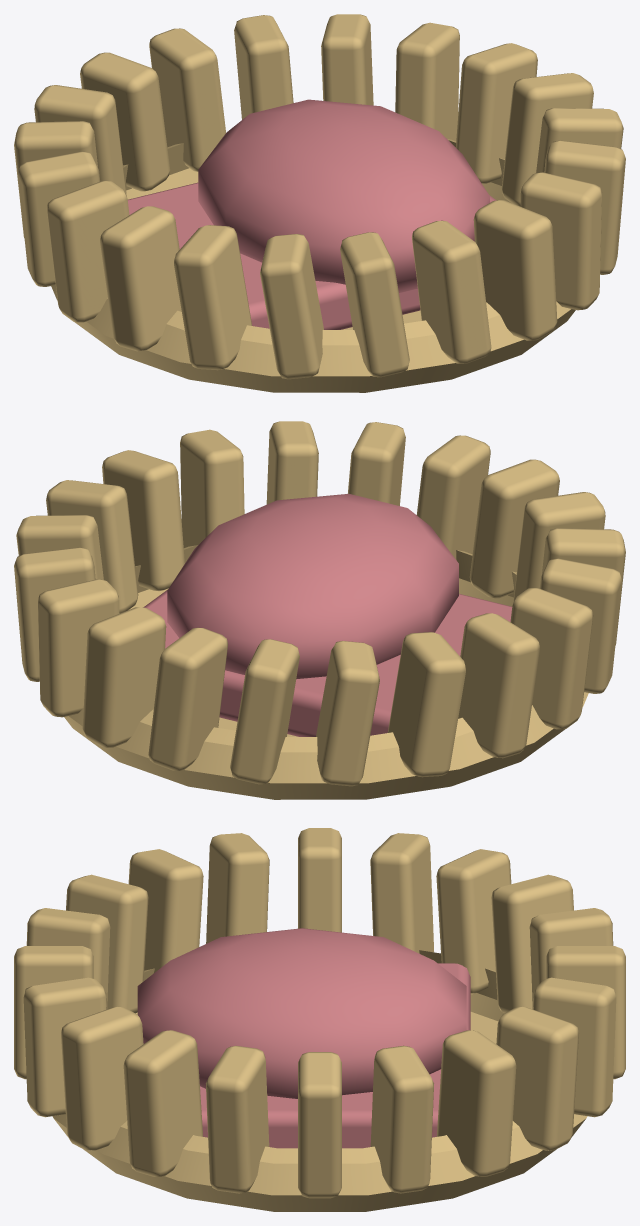
The model's file is witch-cottage-and-apothecary-cat-basket-d4ca71cd__32458.glb.
3 views of the same model, one above another, from view 1: azimuth 30°, elevation 25°; view 2: azimuth 150°, elevation 25°; view 3: azimuth 270°, elevation 25° (orthographic).
Visible parts, largest first — view 1: cat-basket; view 2: cat-basket; view 3: cat-basket.
Part boxes in pixels (<box>): cat-basket: <box>14,14,625,392</box>; cat-basket: <box>14,421,625,799</box>; cat-basket: <box>14,828,625,1211</box>.
Bounding box in the file's own units: 0.7043 × 0.2 × 0.69.
